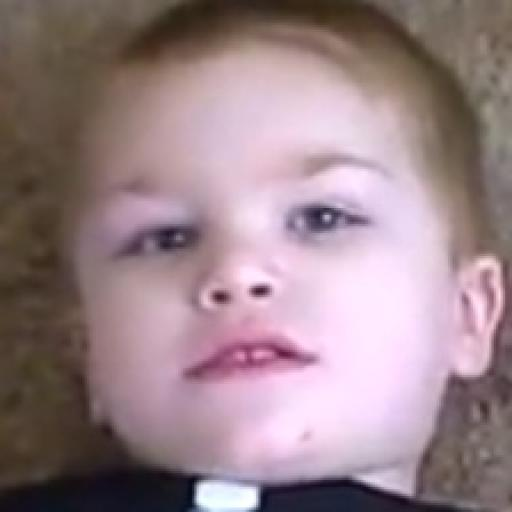Autism: (52, 12, 444, 508)
